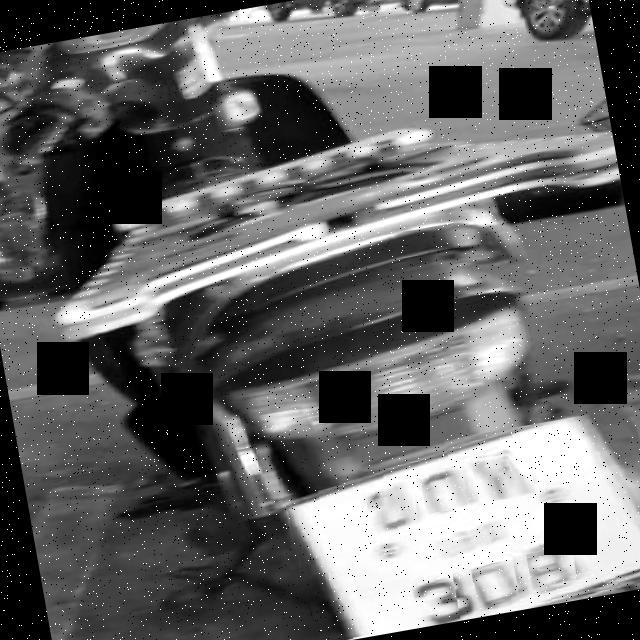letters: (470, 448, 536, 503), (364, 481, 422, 538), (408, 568, 461, 628), (469, 552, 520, 612), (526, 546, 580, 598), (420, 466, 470, 515)
license-plate: (286, 415, 640, 638)
province: (420, 508, 524, 564)
